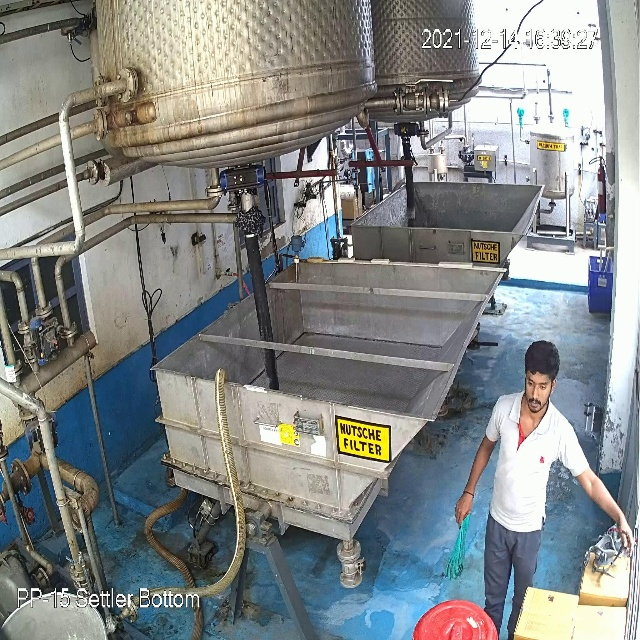Sin_gafas: (520, 374, 555, 397)
Sin_mascara: (525, 392, 549, 415)
